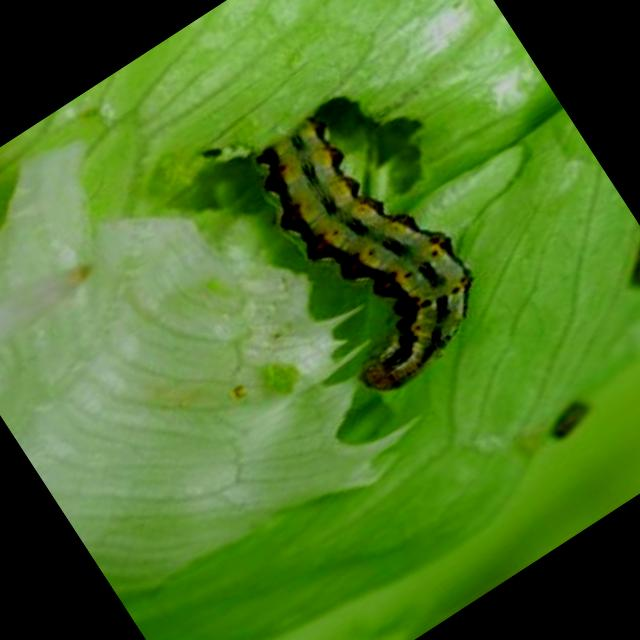Cotton bollworm: (189, 59, 539, 441)
